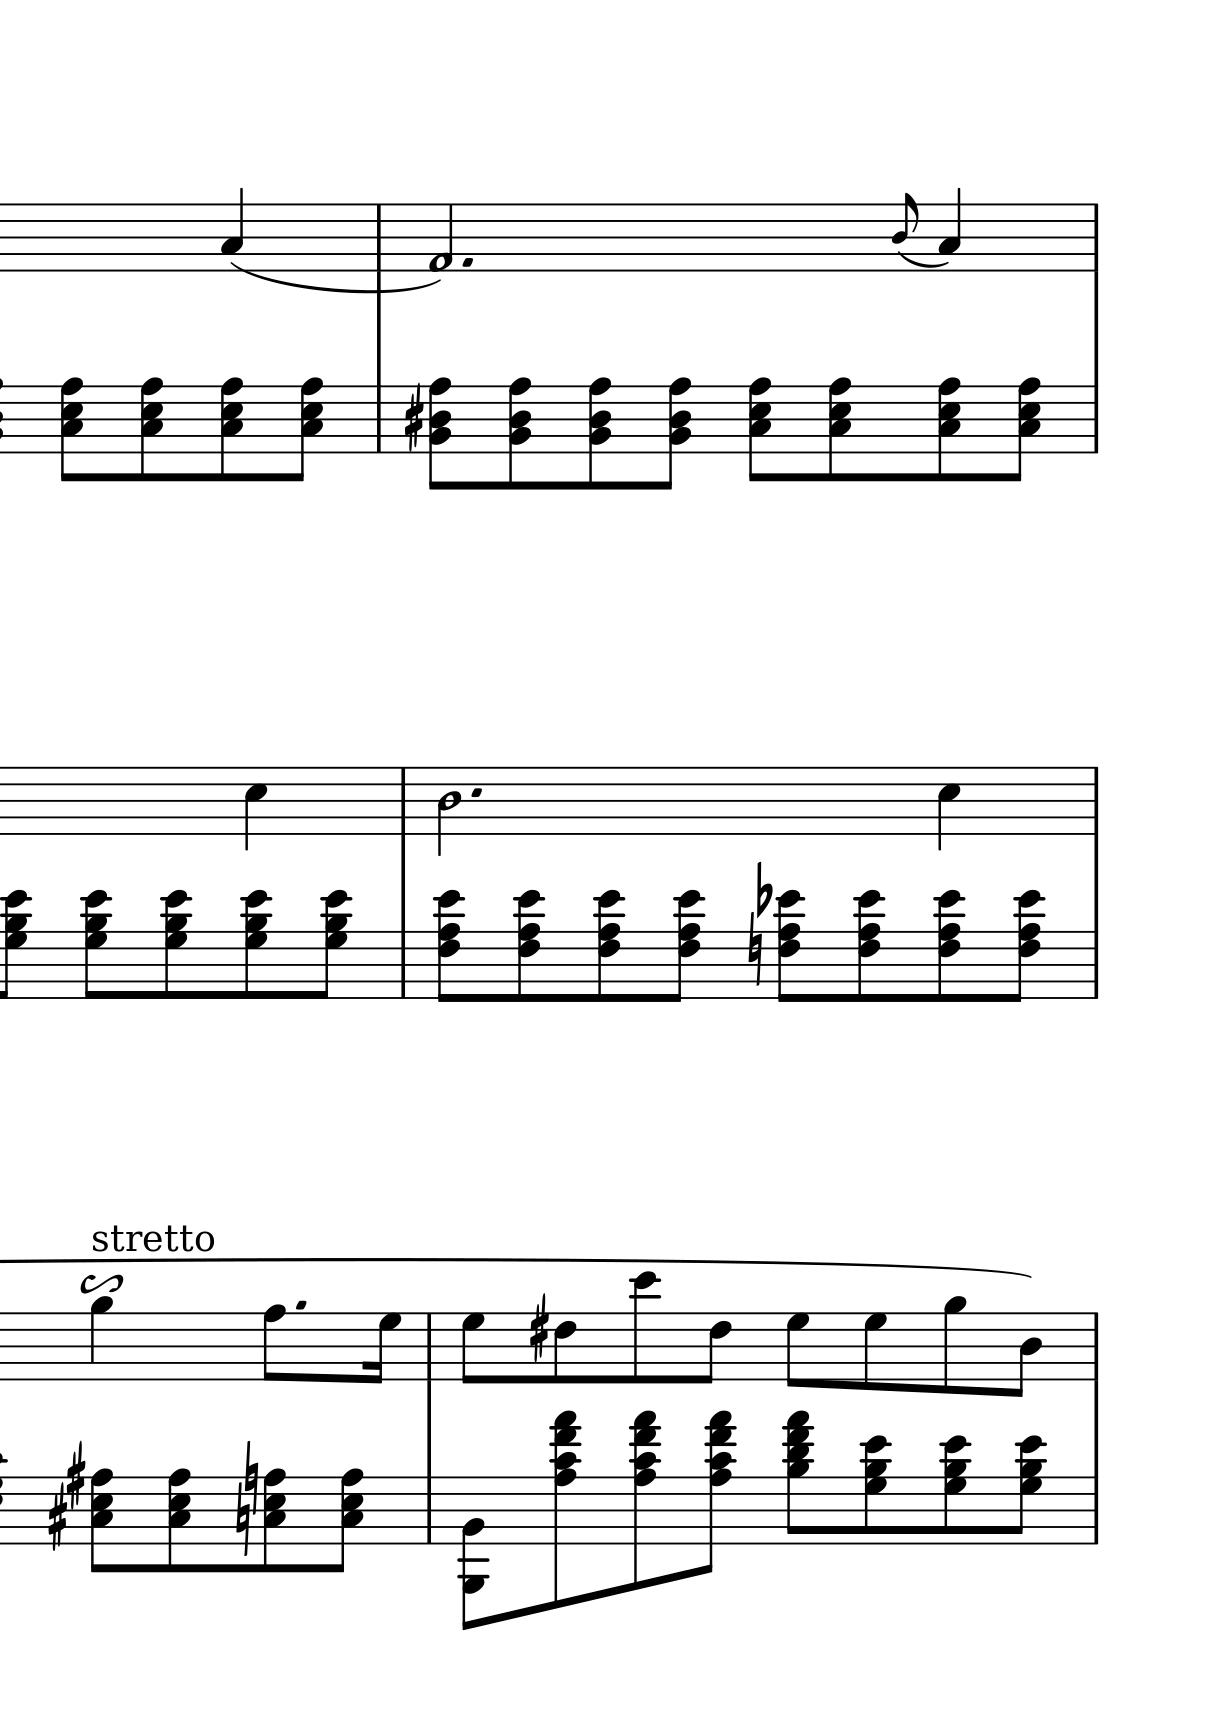16_7: (364, 1312, 400, 1385)
2_1: (427, 200, 456, 272)
2_4: (435, 764, 463, 857)
4_3: (936, 185, 964, 274), (218, 185, 245, 273)
4_5: (936, 764, 961, 852), (243, 764, 268, 851)
4_9: (88, 1295, 113, 1383)
8_-5_2: (457, 1474, 490, 1631)
8_12: (629, 1270, 660, 1386)
8_4: (1008, 1310, 1044, 1400)
8_4th: (696, 1405, 736, 1579), (547, 1406, 582, 1606), (628, 1402, 662, 1593), (780, 1406, 814, 1549)
8_6: (698, 1312, 733, 1386), (553, 1312, 576, 1386)
8_7: (862, 1310, 889, 1392), (785, 1312, 811, 1388), (459, 1312, 486, 1385)
8_8: (263, 1302, 286, 1383)
8_9: (941, 1295, 966, 1396)
8_th: (1003, 888, 1044, 1004), (509, 886, 547, 1003), (851, 888, 887, 1003), (1008, 1431, 1045, 1547), (315, 886, 352, 1000), (658, 370, 693, 486), (668, 888, 704, 1003), (286, 374, 323, 483), (592, 888, 626, 1003), (79, 888, 113, 1000), (427, 374, 459, 491), (330, 1464, 364, 1576), (773, 888, 806, 1003), (859, 1432, 891, 1548), (504, 374, 536, 494), (939, 1432, 971, 1547), (56, 374, 91, 483), (584, 375, 616, 492), (1010, 369, 1044, 477), (435, 889, 466, 1004), (160, 888, 192, 1000), (240, 888, 272, 1000), (933, 889, 965, 1002), (746, 372, 777, 481), (824, 373, 856, 482), (137, 375, 168, 484), (1, 888, 32, 1000), (217, 374, 247, 484), (935, 373, 965, 482), (164, 1465, 193, 1574), (88, 1464, 116, 1574), (263, 1464, 289, 1577)
Appoggiature: (893, 190, 918, 273)
Fermata_above: (77, 1271, 123, 1296)
Flat: (752, 859, 775, 915)
Natural: (242, 1436, 260, 1520), (232, 1484, 252, 1561), (746, 914, 764, 989)
Sharp: (399, 382, 424, 454), (62, 1439, 87, 1510), (529, 1292, 549, 1362), (47, 1489, 66, 1551)
Single_barline: (368, 204, 389, 282), (369, 386, 390, 454), (393, 932, 414, 998), (1084, 204, 1104, 270), (393, 768, 412, 835), (1084, 768, 1104, 835), (419, 1313, 438, 1380), (419, 1477, 438, 1544), (1084, 932, 1104, 998), (1084, 386, 1103, 453), (1086, 1478, 1103, 1544), (1087, 1313, 1103, 1380)
Slur: (231, 259, 442, 295), (897, 251, 950, 269)
dot: (467, 784, 484, 802), (459, 253, 477, 270), (293, 1296, 309, 1314)
